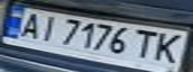1: (75, 19, 96, 51)
6: (109, 25, 136, 56)
7: (54, 16, 81, 47), (90, 21, 115, 54)
A: (9, 10, 48, 39)
I: (30, 12, 63, 43)
K: (148, 30, 190, 65)
T: (127, 28, 163, 61)
